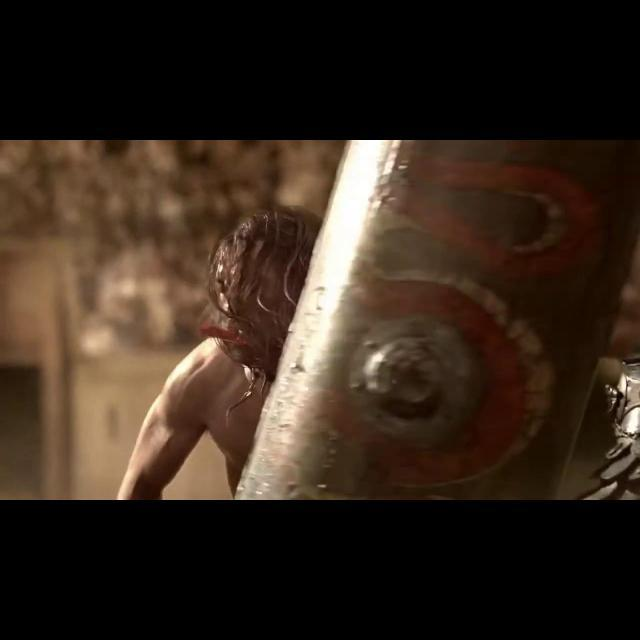blood: (198, 320, 247, 345)
